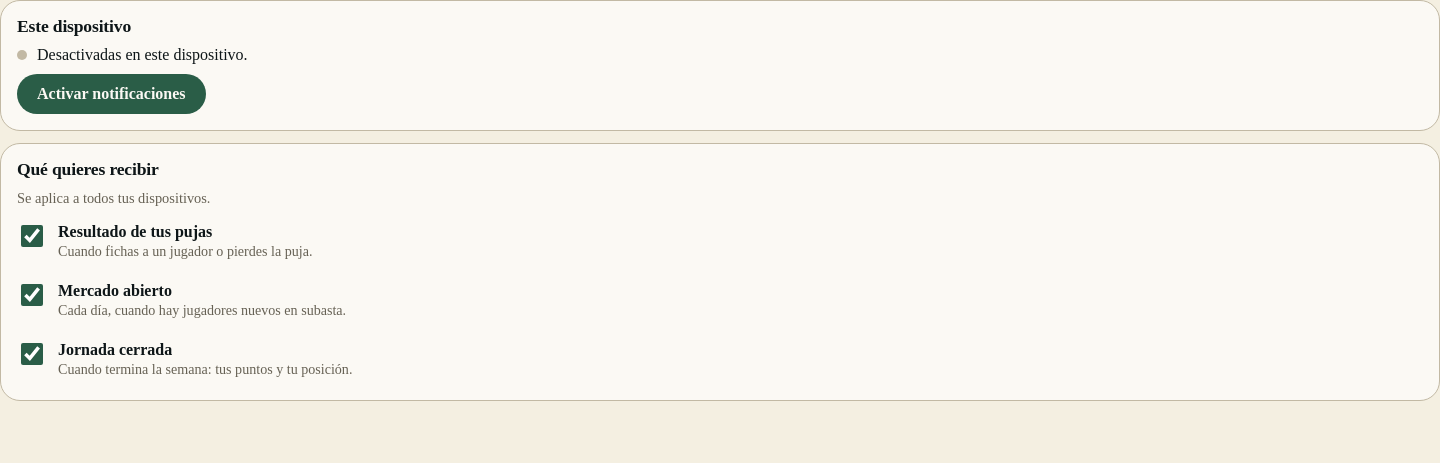
NotificationSettings › a failed activation shows the reason and changes nothing
Step 1. Click the button "Activar notificaciones" → (111, 94), box [17,74,206,114]
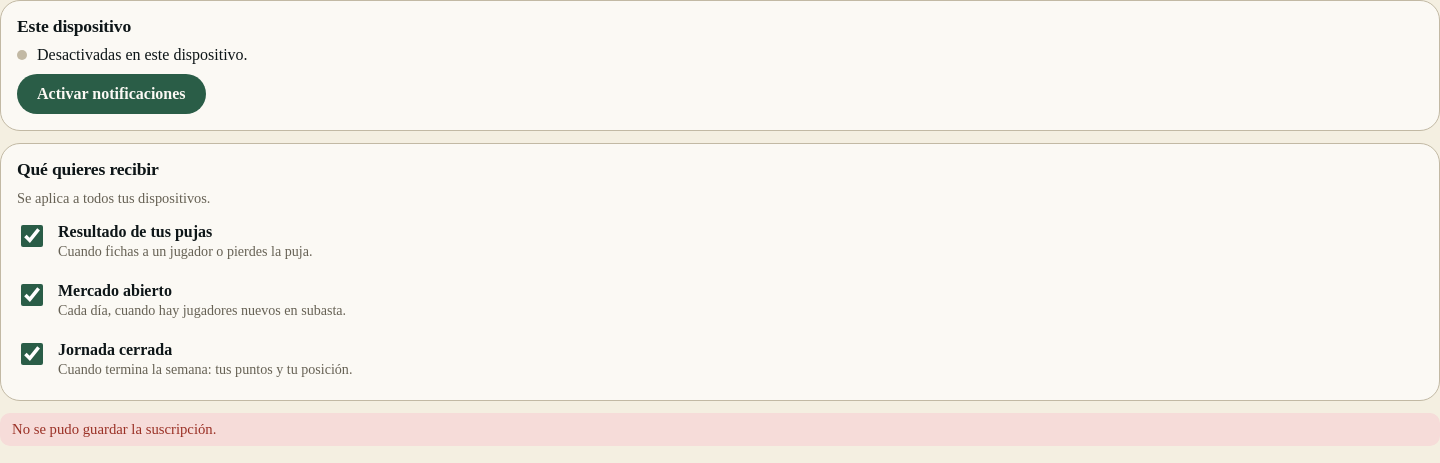
Expected: the text "Desactivadas en este dispositivo" is shown, [33,46,248,63]
Expected: the message "No se pudo guardar la suscripción." is shown, [0,413,1439,446]
